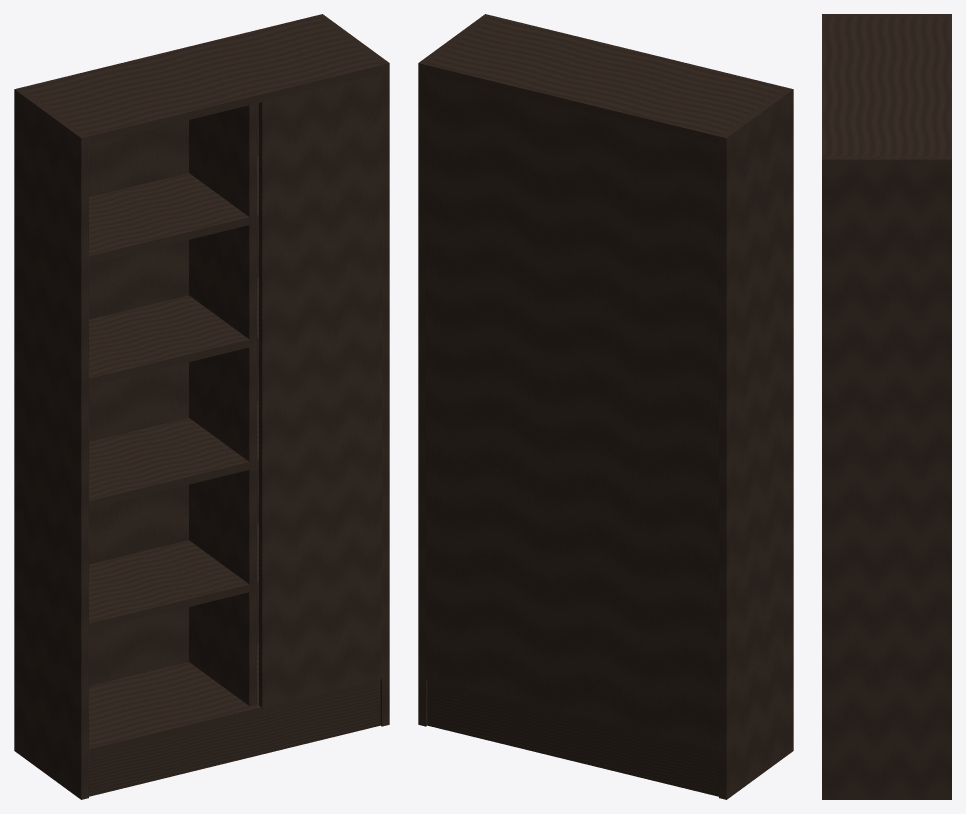
The picture shows the model from 3 angles, left to right: view 1: azimuth 30°, elevation 25°; view 2: azimuth 150°, elevation 25°; view 3: azimuth 270°, elevation 25°; orthographic projection. The views are drawn at different scales.
Parts seen in each view (by area): view 1: 8 door, 1 left_side_panel, 7 vertical_divider, 6 back_panel, 3 top_panel, 4 bottom_kickplate, 5 bottom_shelf, 9 left_shelf_1, 12 left_shelf_4, 11 left_shelf_3, 10 left_shelf_2, 2 right_side_panel; view 2: 6 back_panel, 1 left_side_panel, 3 top_panel, 4 bottom_kickplate, 2 right_side_panel, 5 bottom_shelf; view 3: 2 right_side_panel, 3 top_panel, 1 left_side_panel.
Part boxes in pixels (box(x1,y1,x2,y2)): 8 door: box(259, 73, 381, 707); 1 left_side_panel: box(14, 87, 88, 799); 7 vertical_divider: box(189, 103, 256, 705); 6 back_panel: box(89, 103, 258, 686); 3 top_panel: box(22, 16, 381, 144); 4 bottom_kickplate: box(89, 686, 380, 796); 5 bottom_shelf: box(89, 645, 380, 756); 9 left_shelf_1: box(89, 540, 249, 631); 12 left_shelf_4: box(89, 173, 249, 263); 11 left_shelf_3: box(89, 295, 249, 386); 10 left_shelf_2: box(89, 418, 249, 508); 2 right_side_panel: box(315, 14, 389, 726); 6 back_panel: box(426, 73, 718, 750); 1 left_side_panel: box(719, 87, 793, 799); 3 top_panel: box(426, 16, 785, 144); 4 bottom_kickplate: box(427, 686, 718, 796); 2 right_side_panel: box(418, 14, 492, 726); 5 bottom_shelf: box(427, 679, 718, 756); 2 right_side_panel: box(822, 156, 951, 799); 3 top_panel: box(822, 17, 951, 155); 1 left_side_panel: box(822, 14, 951, 17).
Size of the model in its own units: 0.8026 by 1.65 by 0.3023.
Materials: 1 (1 with a texture image).
